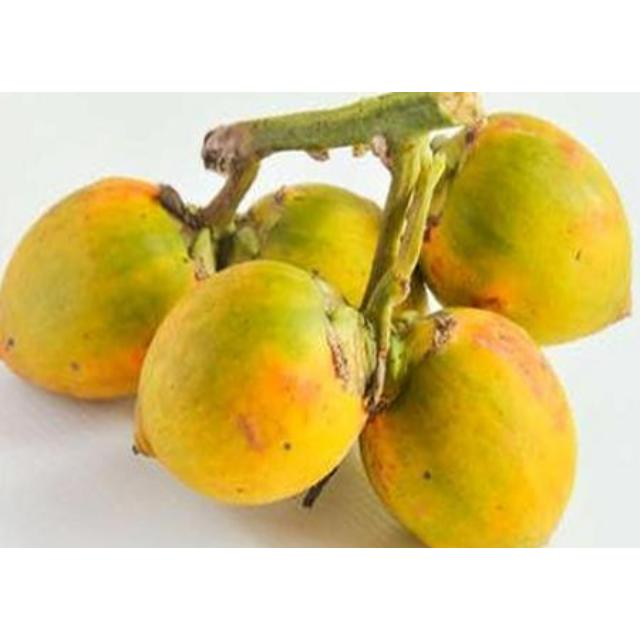good: (132, 260, 452, 510), (357, 308, 579, 547), (418, 112, 633, 349), (0, 177, 199, 402), (250, 183, 384, 305)
